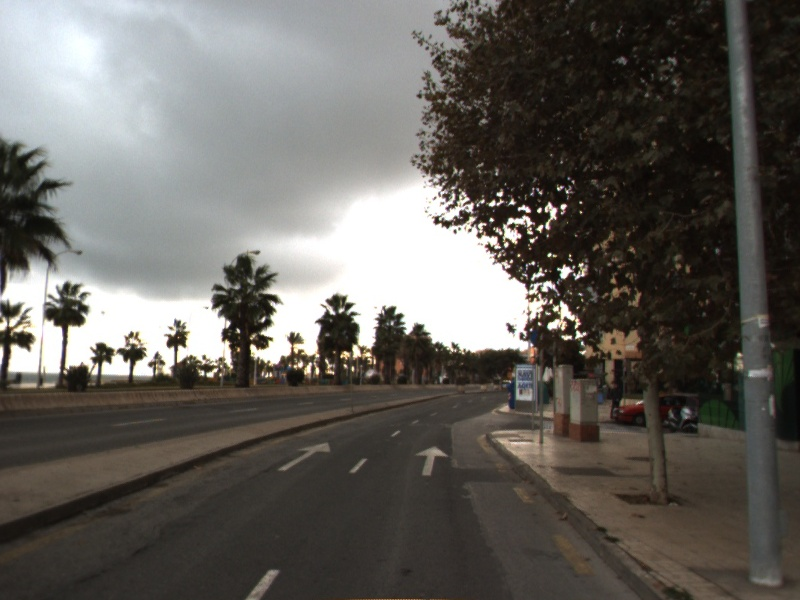STRAIGHT: (277, 441, 332, 472), (414, 444, 451, 477)
